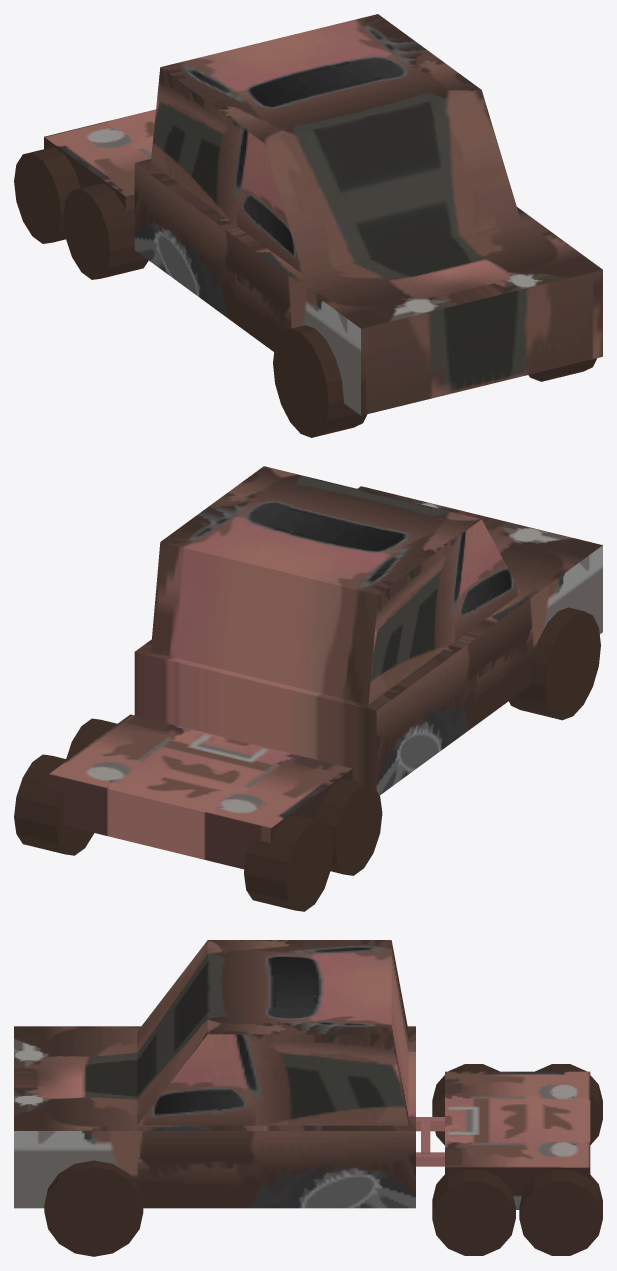
File: Building_AncientRustedTruck.glb
The picture shows the model from 3 angles, top to bottom: view 1: azimuth 30°, elevation 25°; view 2: azimuth 150°, elevation 25°; view 3: azimuth 270°, elevation 25°; orthographic projection. The views are drawn at different scales.
Visible parts, largest first — view 1: AncientRustedTruck; view 2: AncientRustedTruck; view 3: AncientRustedTruck.
Part boxes in pixels (x1,y1,x2,y2): AncientRustedTruck: (14,14,602,437); AncientRustedTruck: (14,466,602,911); AncientRustedTruck: (14,940,602,1256).
Size of the model in its own units: 1.8 by 1.5 by 3.8.
Materials: 1 (1 with a texture image).
